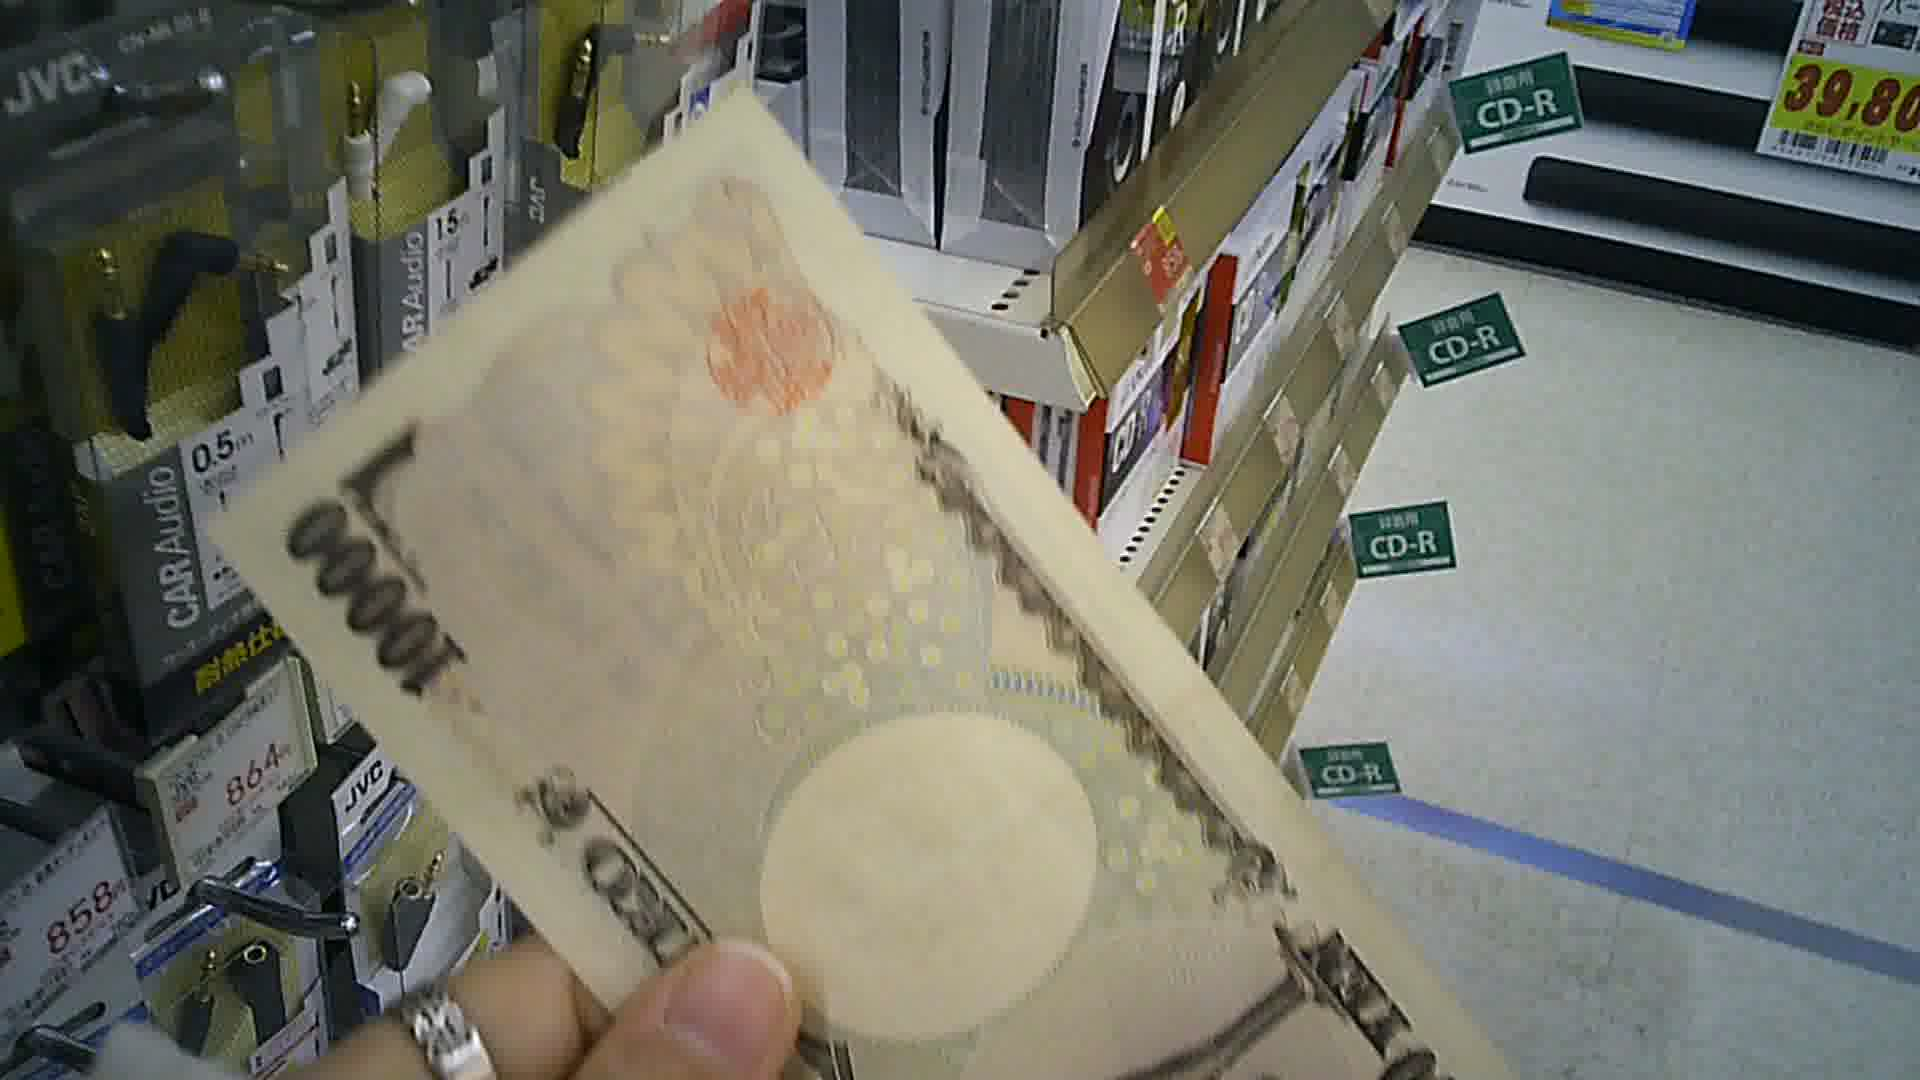10,000 Yen: (220, 113, 1513, 1079)
